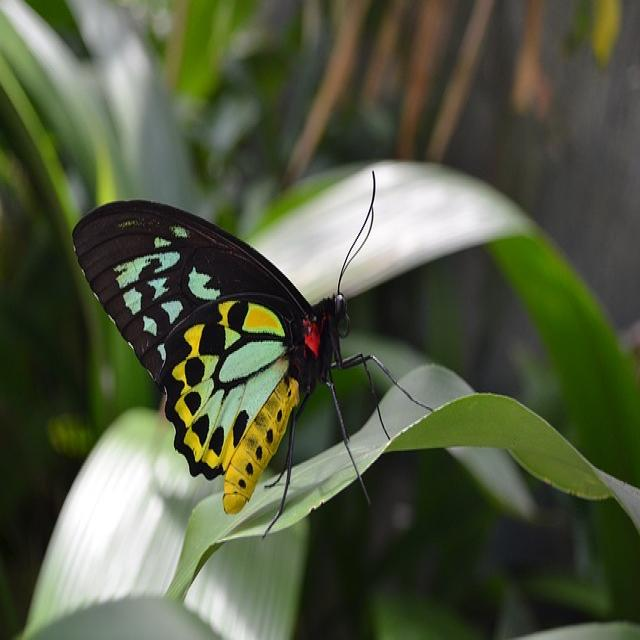butterfly: (71, 201, 347, 513)
